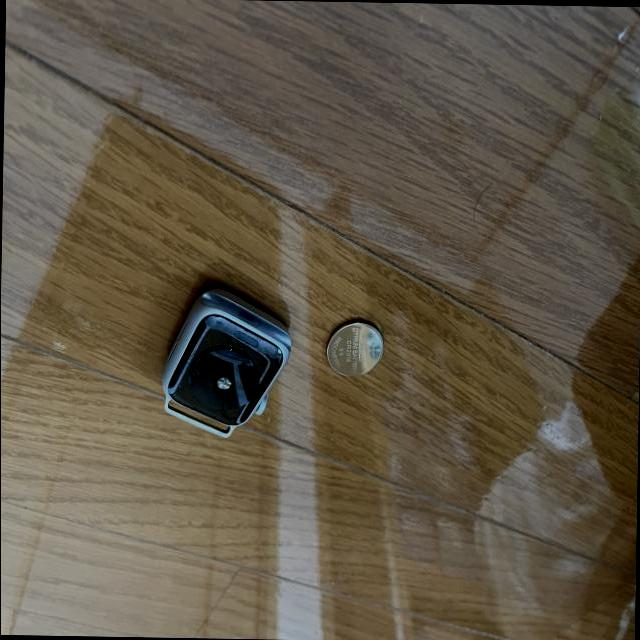COIN: (326, 317, 384, 376)
